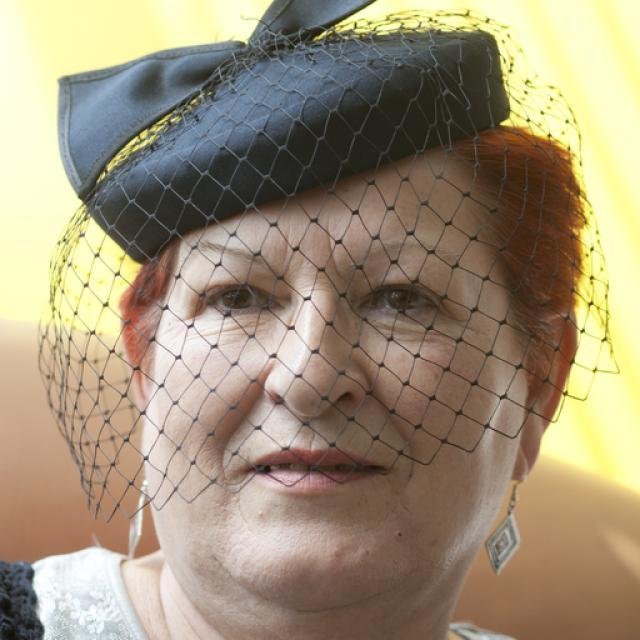neutral: (142, 140, 532, 614)
